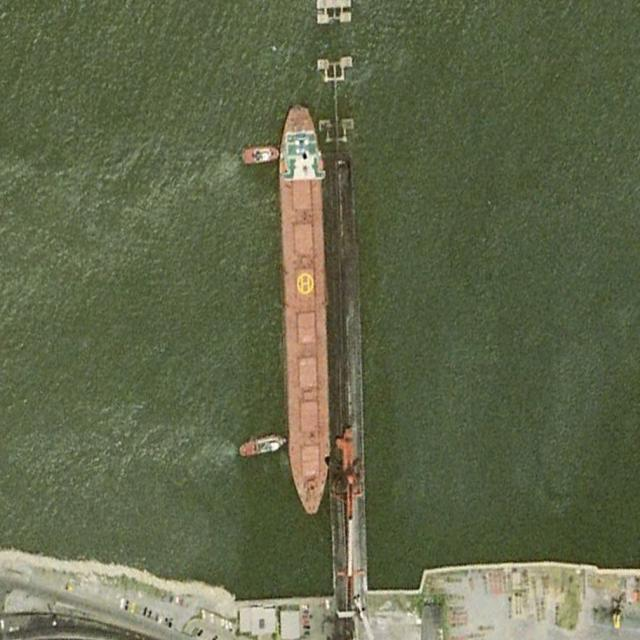Cargo: (277, 100, 335, 517)
Other Ship: (236, 430, 288, 459), (241, 144, 279, 165)
